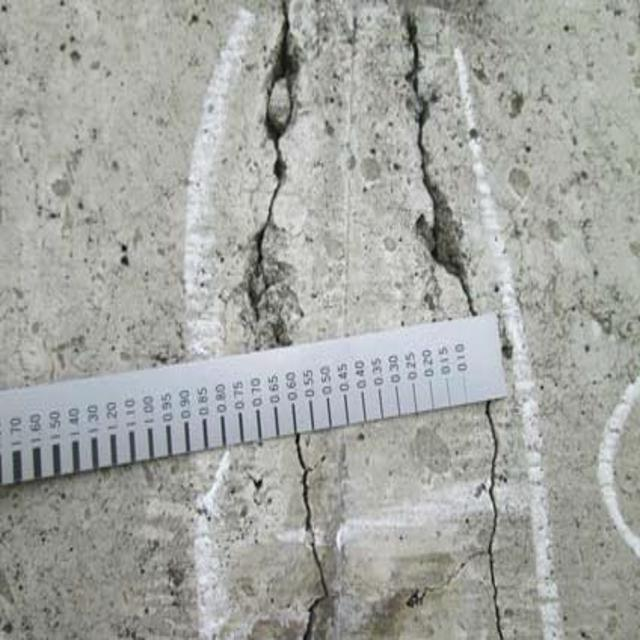crack: (373, 7, 494, 319), (238, 14, 318, 353), (468, 409, 532, 637), (284, 441, 343, 640)
